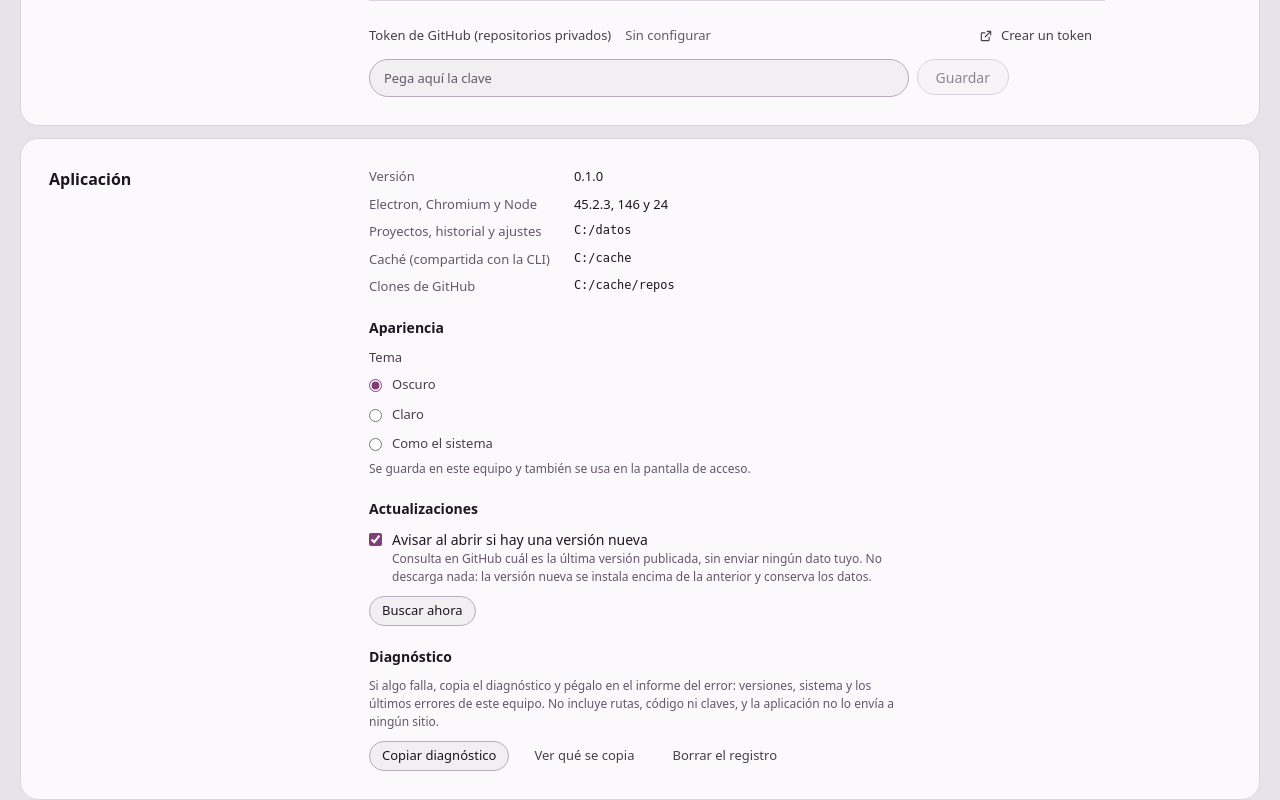
Test: Configuración › el tema se aplica al elegirlo, sin pasar por el borrador
(page scrolled)
Check: the radio button labelled "Oscuro" is checked, box [369, 379, 382, 392]
Click the radio button labelled "Claro".
click(376, 415)  # box [369, 408, 382, 422]
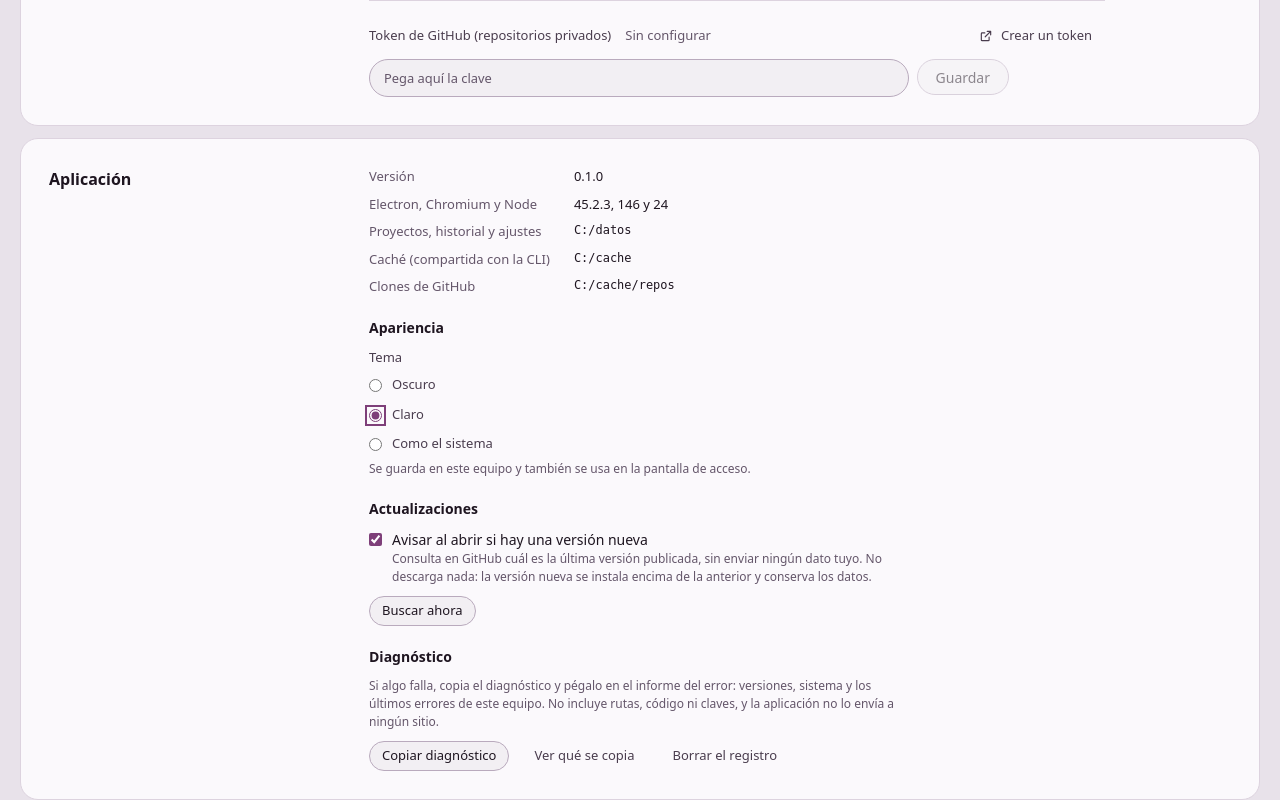
Check: the radio button labelled "Claro" is checked, box [369, 408, 382, 422]
